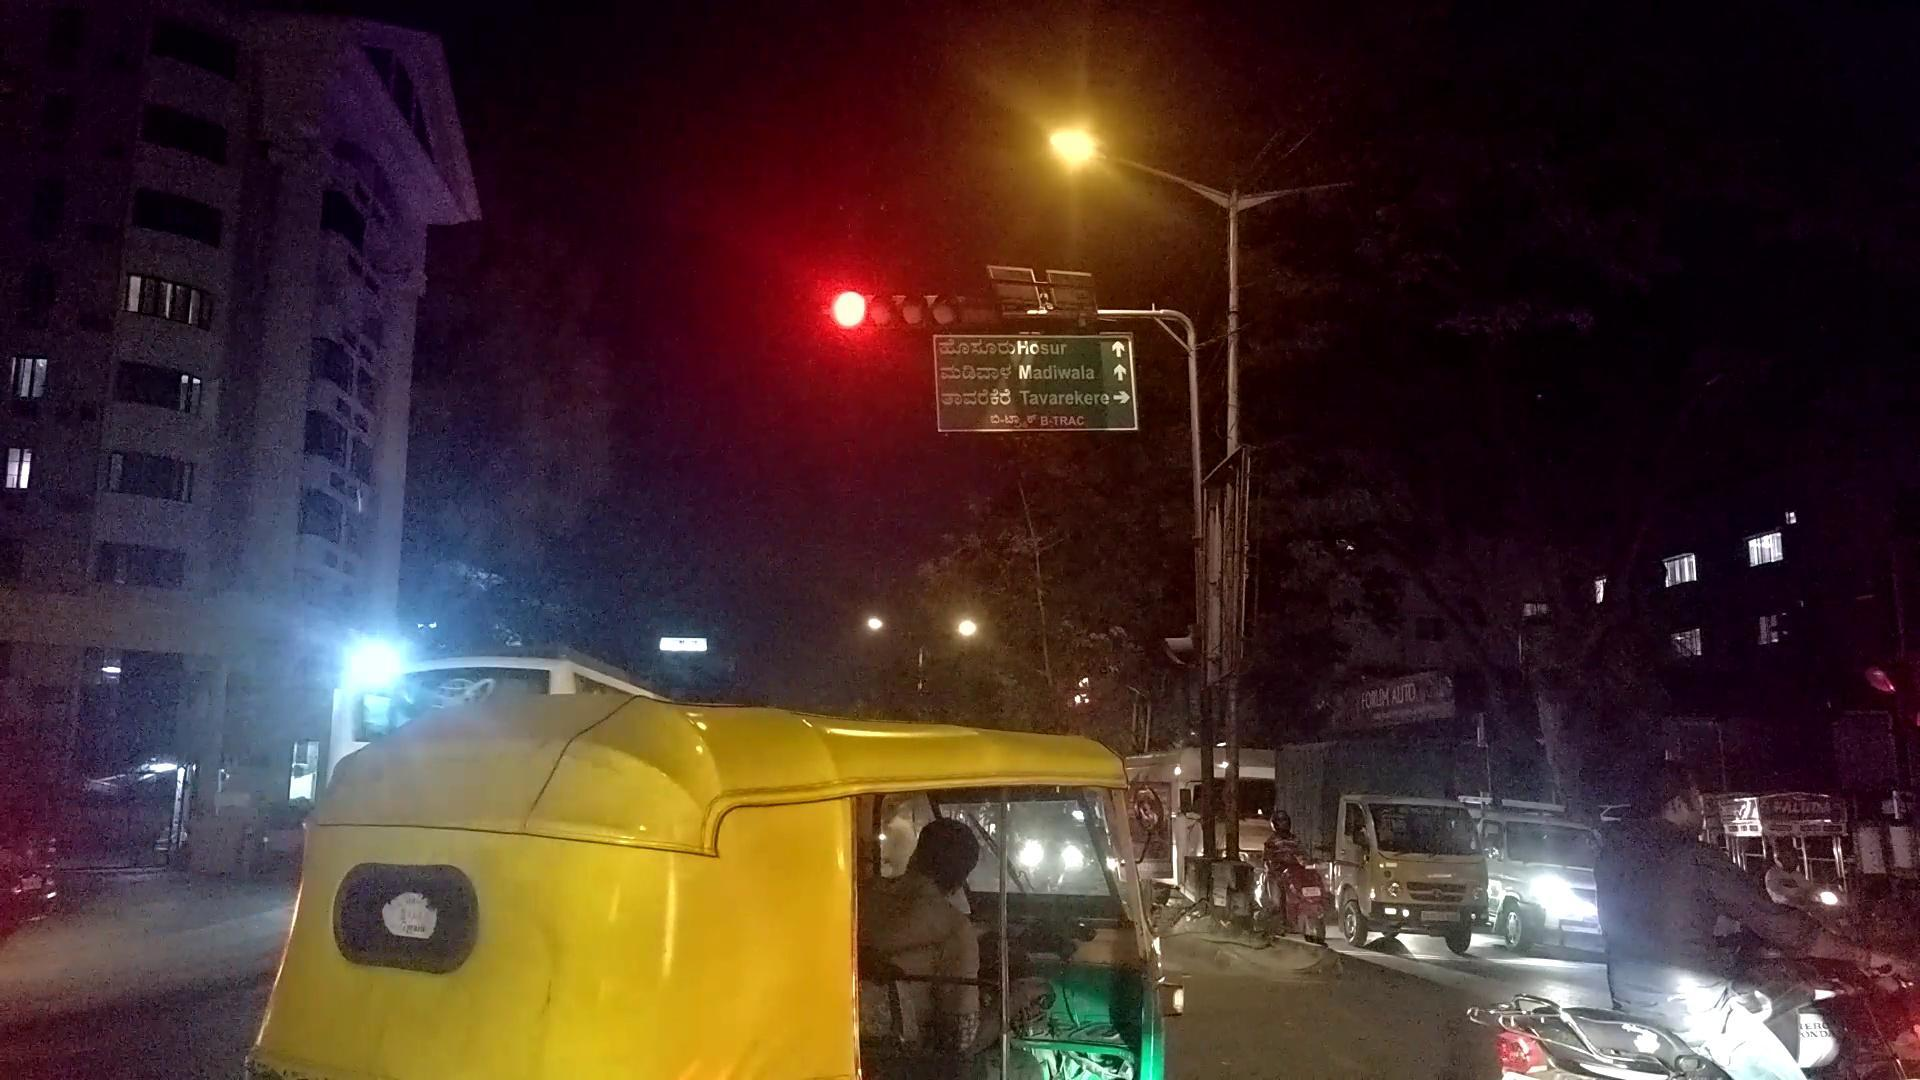on: (980, 12, 1222, 307)
